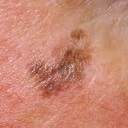Melanoma: (34, 45, 88, 94)
